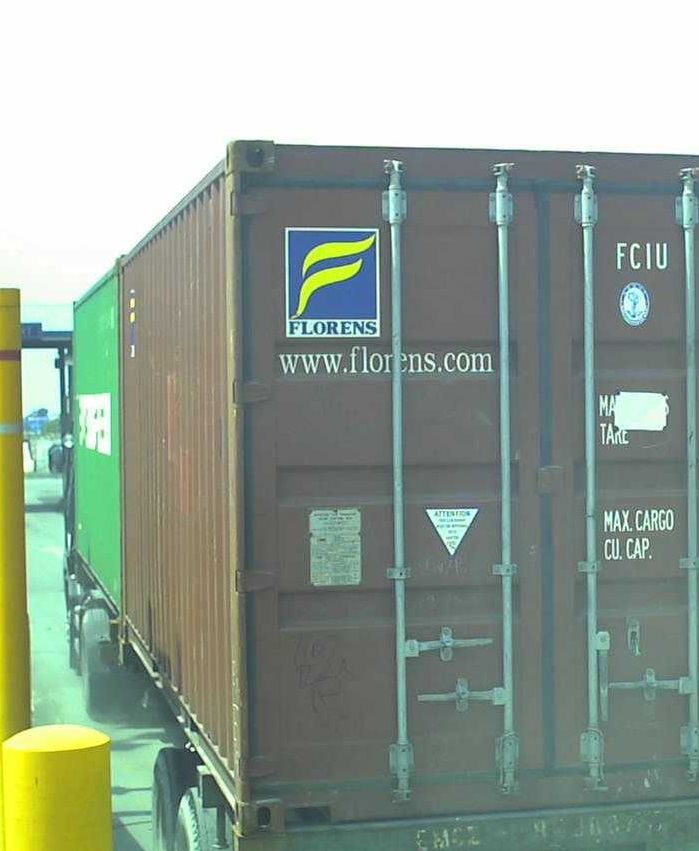container_door: (223, 135, 694, 829)
